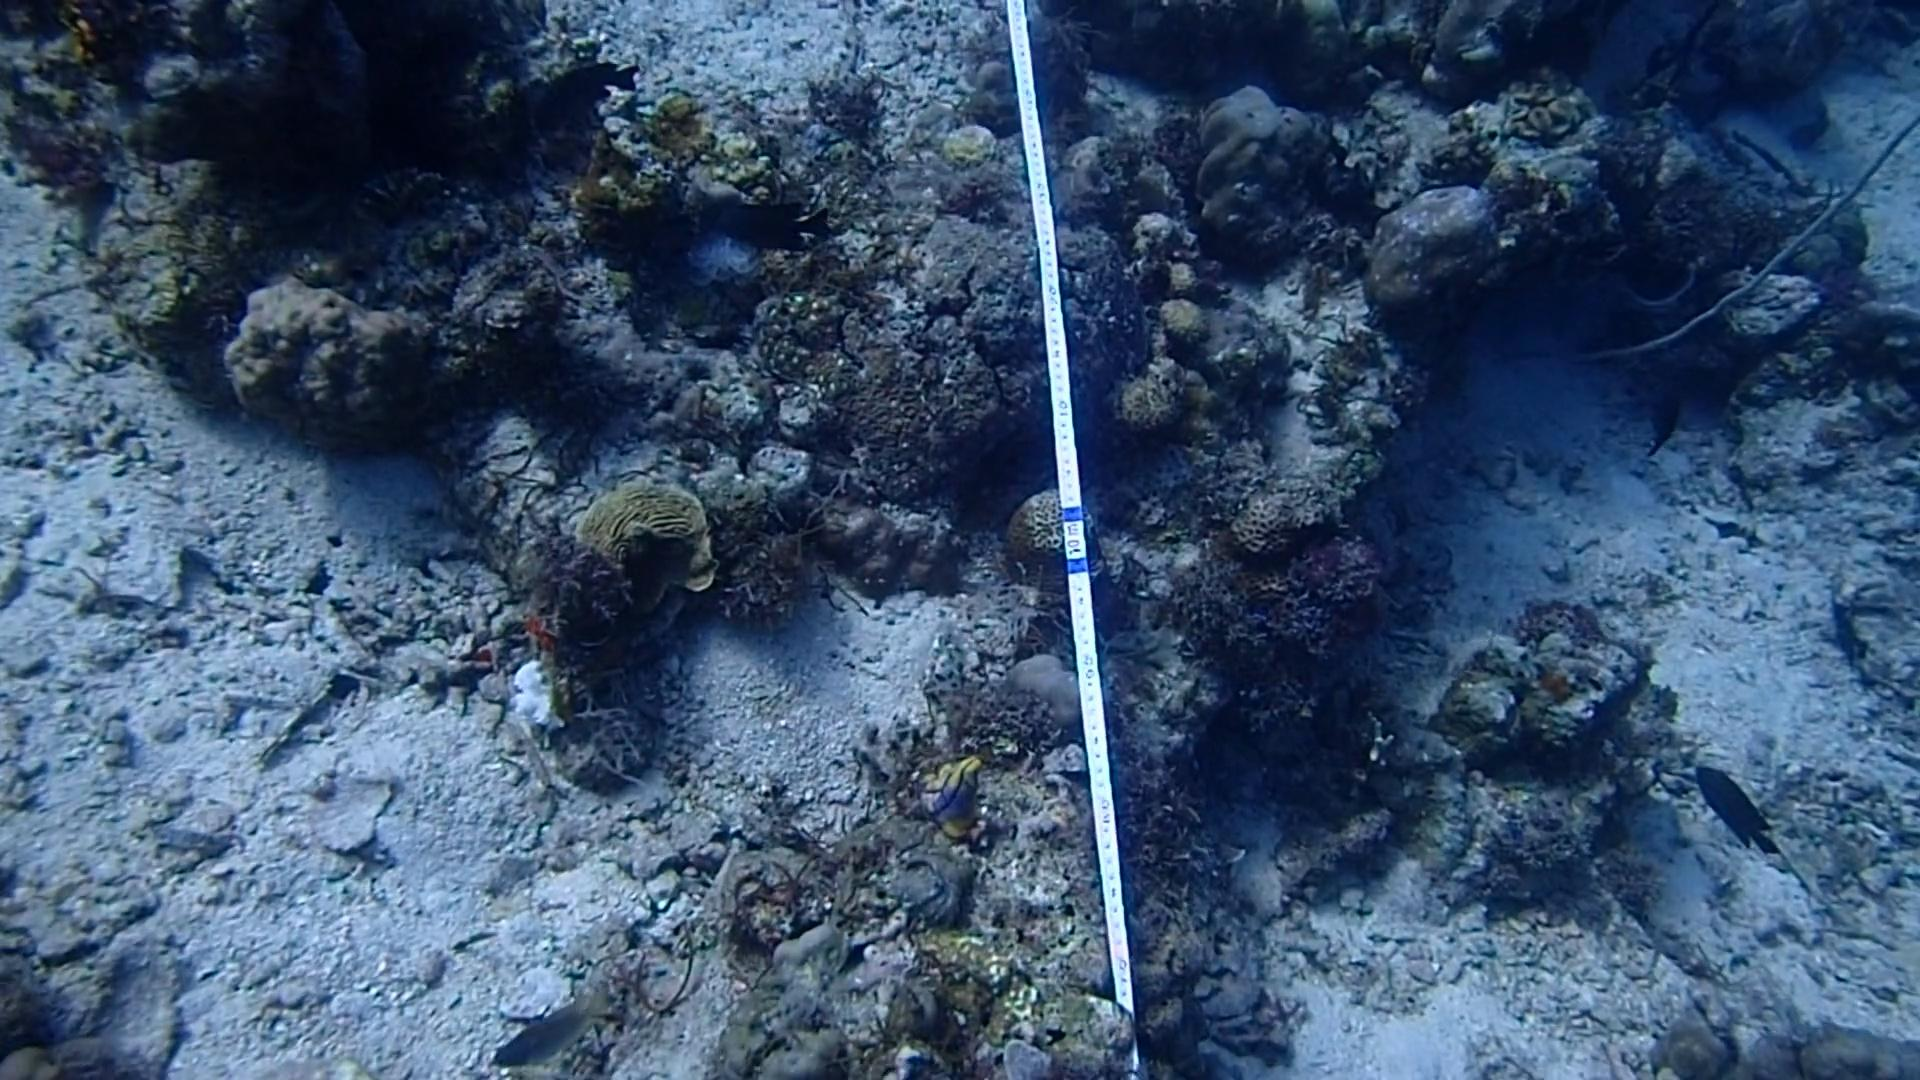Dark Fish: (1685, 754, 1783, 870), (1622, 367, 1704, 467), (716, 189, 832, 257), (525, 50, 644, 116)
Light Fish: (485, 989, 615, 1073)
